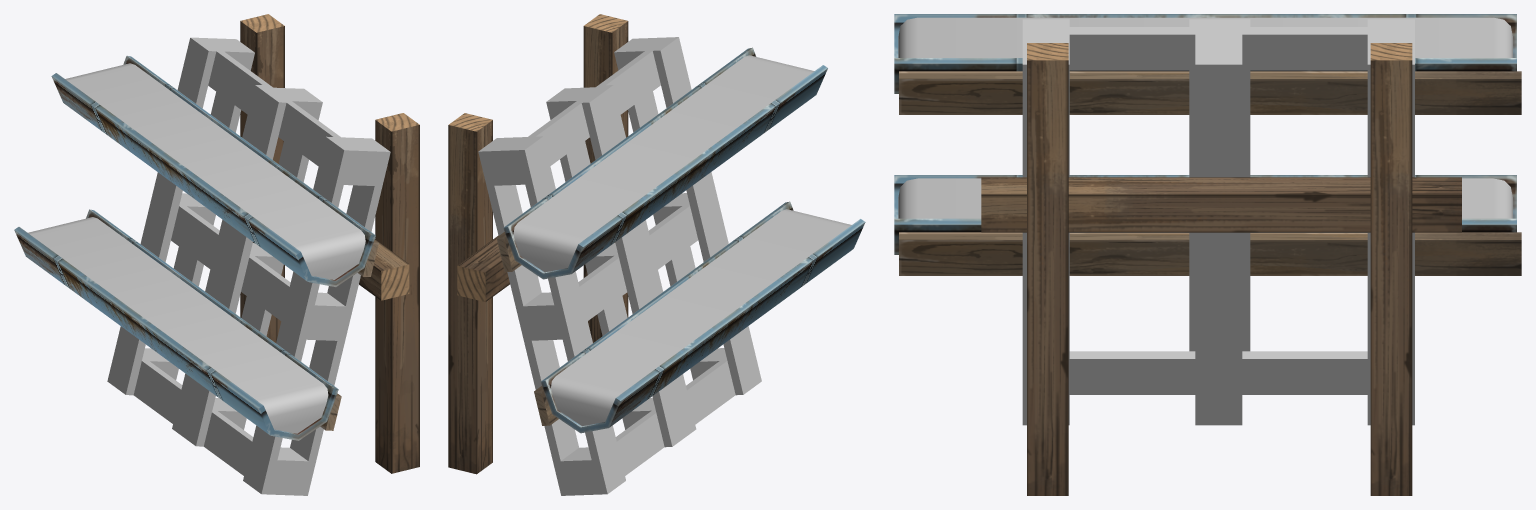
Rendered from gutterPlanter06.fbx.
The picture shows the model from 3 angles, left to right: view 1: azimuth 30°, elevation 25°; view 2: azimuth 150°, elevation 25°; view 3: azimuth 270°, elevation 25°; orthographic projection. The views are drawn at different scales.
Visible parts, largest first — view 1: gutterPlanter06; view 2: gutterPlanter06; view 3: gutterPlanter06.
Part boxes in pixels (x1,y1,x2,y2): gutterPlanter06: [14, 14, 419, 495]; gutterPlanter06: [448, 14, 865, 495]; gutterPlanter06: [894, 14, 1521, 495].
Bounding box in the file's own units: 79.89 × 123 × 160.
